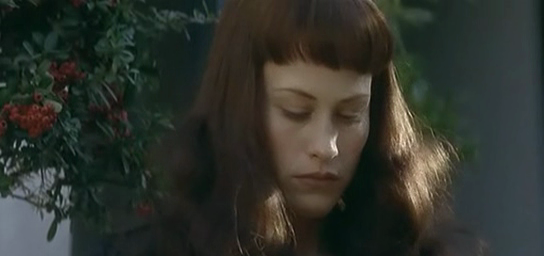cu: (1, 1, 544, 256)
face: (257, 60, 370, 223)
person: (109, 1, 492, 256)
